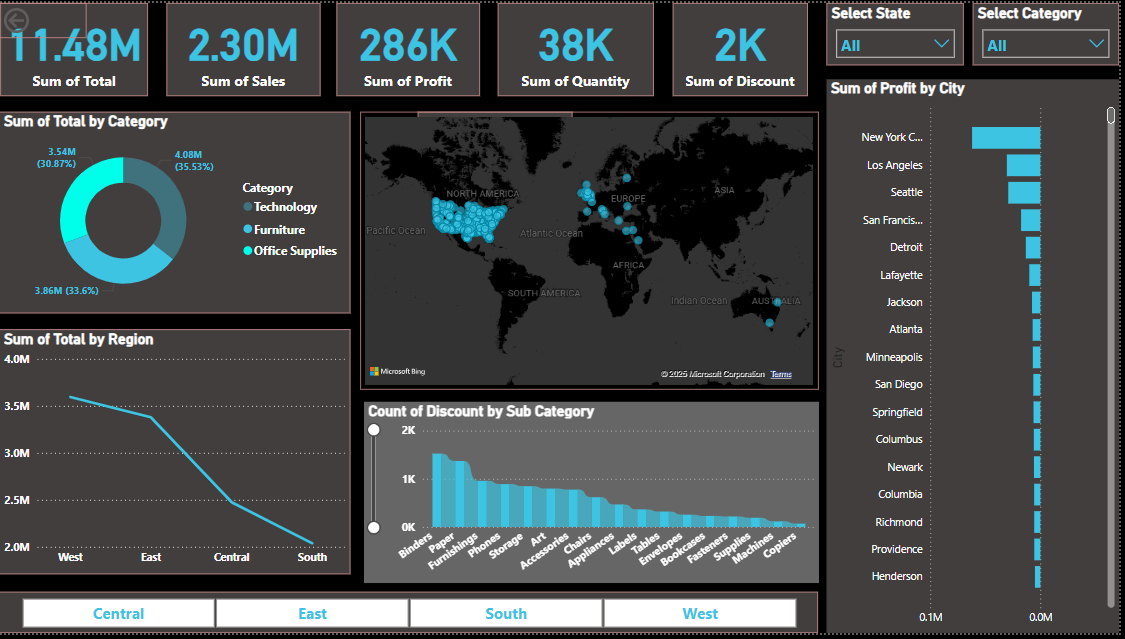

This screenshot's page, from the dashboard's own definition file:
{"tool":"powerbi","page":{"name":"Page 1","canvas":[1280,720],"ordinal":0},"visuals":[{"type":"donutChart","fields":{"Y":["Sum(SampleSuperstore.Total)"],"Category":["SampleSuperstore.Category"]},"box":[0,124.3,401.4,230],"z":1000},{"type":"clusteredBarChart","fields":{"Category":["SampleSuperstore.City"],"Y":["Sum(SampleSuperstore.Profit)"]},"box":[945.7,87.1,334.3,632.9],"z":1500},{"type":"card","fields":{"Values":["Sum(SampleSuperstore.Total)"]},"box":[2,0,169,106],"z":2000},{"type":"card","fields":{"Values":["Sum(SampleSuperstore.Profit)"]},"box":[386,0,164,106],"z":3000},{"type":"card","fields":{"Values":["Sum(SampleSuperstore.Quantity)"]},"box":[478,124,177,106],"z":4000},{"type":"actionButton","box":[0,0,100,40],"z":5000},{"type":"lineChart","fields":{"Y":["Sum(SampleSuperstore.Total)"],"Category":["SampleSuperstore.Region"]},"box":[0,372.9,401.4,280],"z":6000},{"type":"card","fields":{"Values":["Sum(SampleSuperstore.Quantity)"]},"box":[570,0,178,106],"z":7000},{"type":"slicer","title":"Select Category","fields":{"Values":["SampleSuperstore.Category"]},"box":[1113,0,167,71],"z":8000},{"type":"card","fields":{"Values":["Sum(SampleSuperstore.Discount)"]},"box":[770,0,154,106],"z":8001},{"type":"slicer","fields":{"Values":["SampleSuperstore.Region"]},"box":[0,672.9,935.7,47.1],"z":8002},{"type":"map","fields":{"Category":["SampleSuperstore.City","SampleSuperstore.Country"]},"box":[412.5,123.8,523.8,317.5],"z":8003},{"type":"card","fields":{"Values":["Sum(SampleSuperstore.Sales)"]},"box":[192,0,176,106],"z":8004},{"type":"slicer","title":"Select State","fields":{"Values":["SampleSuperstore.State"]},"box":[945,0,157,71],"z":8005},{"type":"ribbonChart","title":"Count of Discount by Sub Category","fields":{"Category":["SampleSuperstore.Sub-Category"],"Y":["CountNonNull(SampleSuperstore.Discount)"]},"box":[417.1,455.7,520,207.1],"z":8007}]}

Visuals, with their boxes in screenshot pixels (x1, y1, x2, y2), scaled from the page's 1280x720 canvas onto the 1125x639 screenshot:
donutChart - Sum(SampleSuperstore.Total) x SampleSuperstore.Category: [x1=0, y1=110, x2=353, y2=314]
clusteredBarChart - SampleSuperstore.City x Sum(SampleSuperstore.Profit): [x1=831, y1=77, x2=1124, y2=638]
card - Sum(SampleSuperstore.Total): [x1=2, y1=0, x2=150, y2=94]
card - Sum(SampleSuperstore.Profit): [x1=339, y1=0, x2=483, y2=94]
card - Sum(SampleSuperstore.Quantity): [x1=420, y1=110, x2=576, y2=204]
actionButton: [x1=0, y1=0, x2=88, y2=36]
lineChart - Sum(SampleSuperstore.Total) x SampleSuperstore.Region: [x1=0, y1=331, x2=353, y2=579]
card - Sum(SampleSuperstore.Quantity): [x1=501, y1=0, x2=657, y2=94]
"Select Category" slicer: [x1=978, y1=0, x2=1124, y2=63]
card - Sum(SampleSuperstore.Discount): [x1=677, y1=0, x2=812, y2=94]
slicer - SampleSuperstore.Region: [x1=0, y1=597, x2=822, y2=638]
map - SampleSuperstore.City x SampleSuperstore.Country: [x1=363, y1=110, x2=823, y2=392]
card - Sum(SampleSuperstore.Sales): [x1=169, y1=0, x2=323, y2=94]
"Select State" slicer: [x1=831, y1=0, x2=969, y2=63]
"Count of Discount by Sub Category" ribbonChart: [x1=367, y1=404, x2=824, y2=588]
